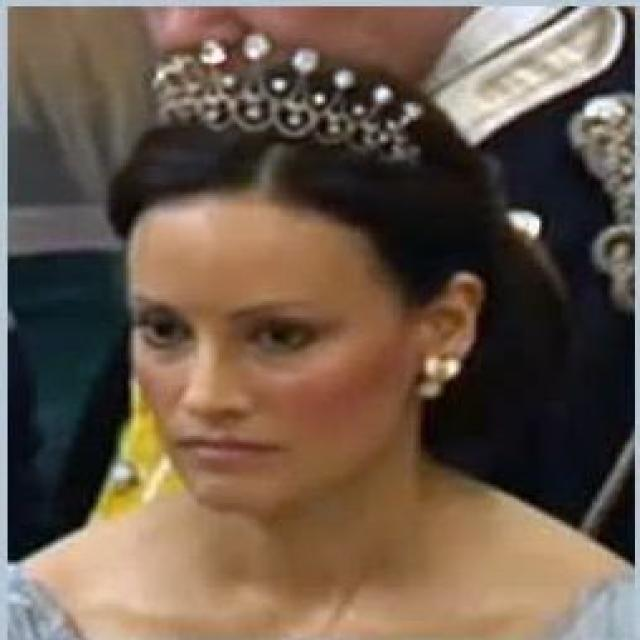Earring: (410, 346, 466, 416)
